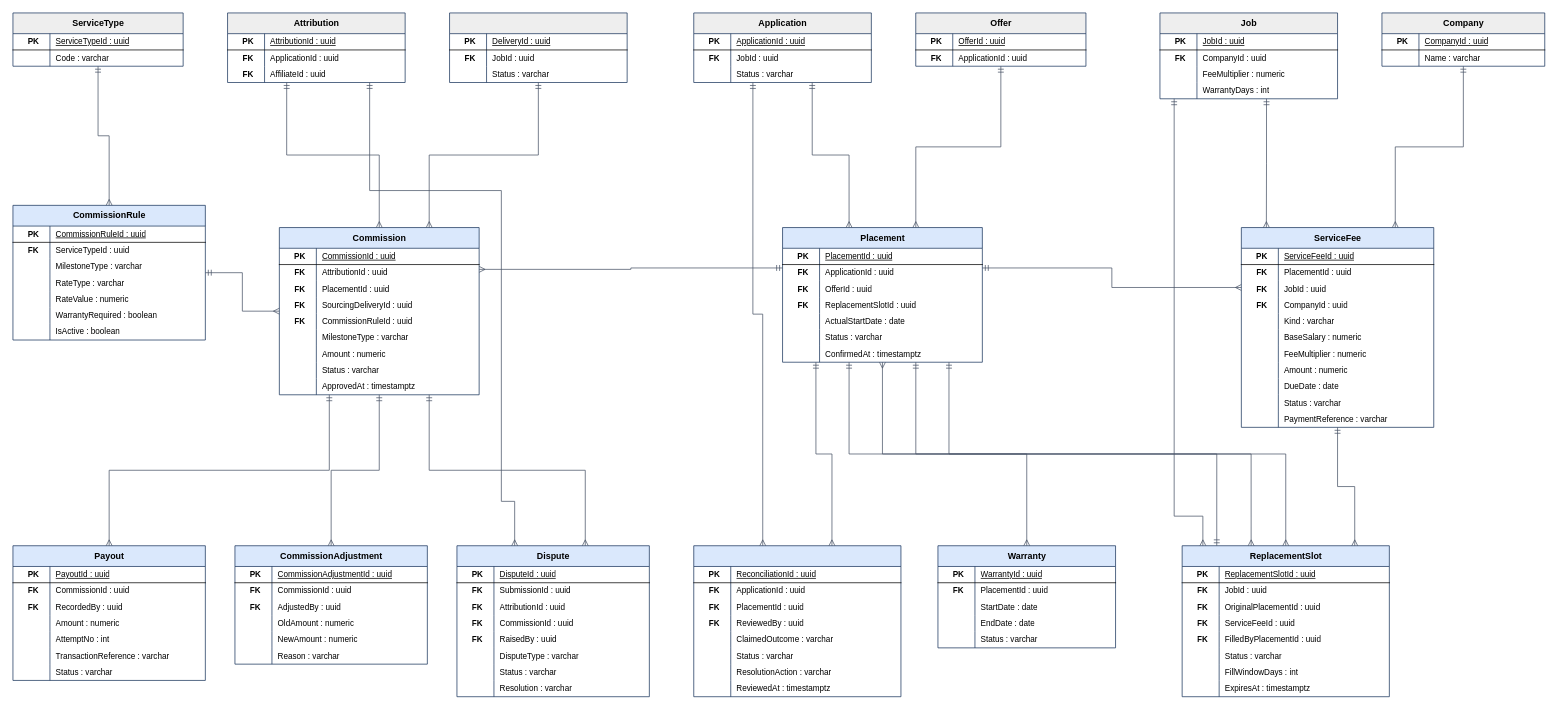
The diagram is 1558 pixels wide and 710 high, and some of its shapes have lost their labels. Each missing label, with the box of its shape:
PlacementReconciliation: (693, 545, 901, 697)
SourcingDelivery: (449, 12, 627, 83)
